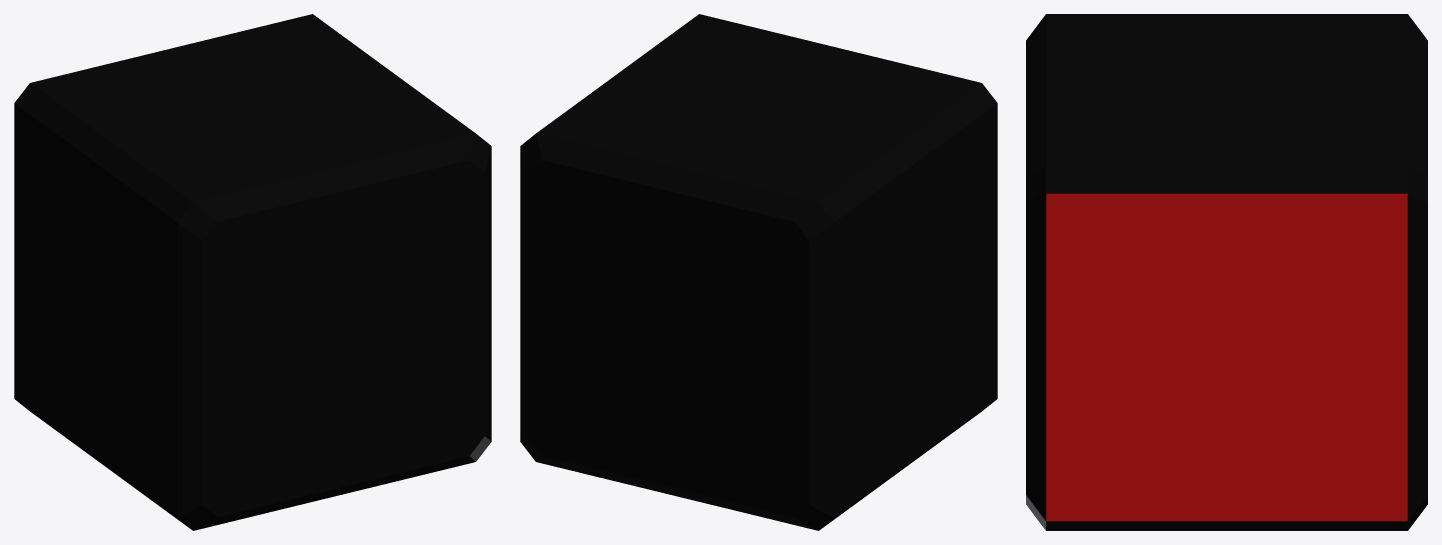
3 renders of one model, left to right at view 1: azimuth 30°, elevation 25°; view 2: azimuth 150°, elevation 25°; view 3: azimuth 270°, elevation 25°, orthographic. The views are drawn at different scales.
Visible parts, largest first — view 1: Body_01; view 2: Body_01; view 3: Body_01.
Boxes of the visible parts, x1,y1,x2,y2 form: Body_01: (14,14,491,530); Body_01: (520,14,997,530); Body_01: (1026,14,1427,530).
Size of the model in its own units: 0.019 by 0.019 by 0.019.
